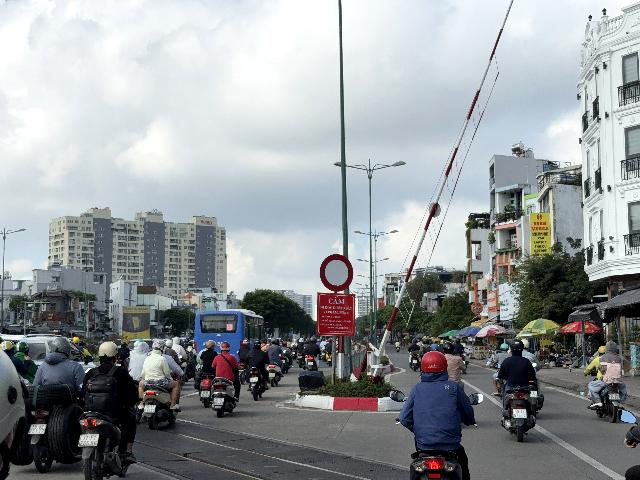duong-cam: (320, 253, 354, 292)
